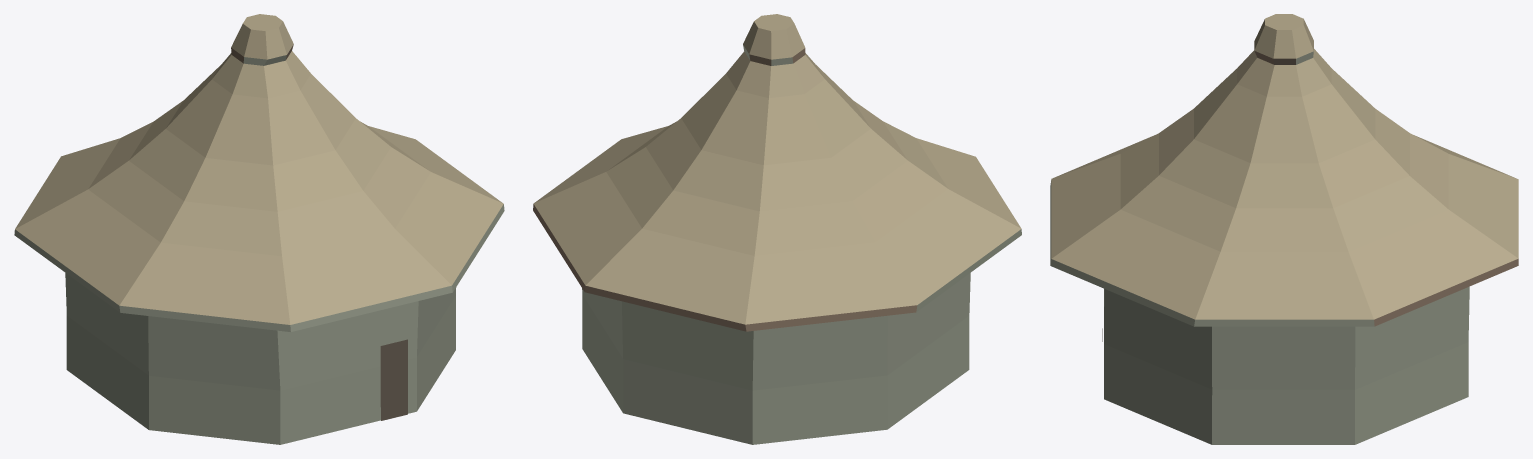
File: loin.glb
The picture shows the model from 3 angles, left to right: view 1: azimuth 30°, elevation 25°; view 2: azimuth 150°, elevation 25°; view 3: azimuth 270°, elevation 25°; orthographic projection.
Visible parts, largest first — view 1: loin; view 2: loin; view 3: loin.
Boxes of the visible parts, box(x1,y1,x2,y2) form: loin: box(14, 14, 504, 444); loin: box(533, 14, 1021, 444); loin: box(1050, 14, 1518, 444).
Bounding box in the file's own units: 0.9834 × 0.8131 × 0.9997.
